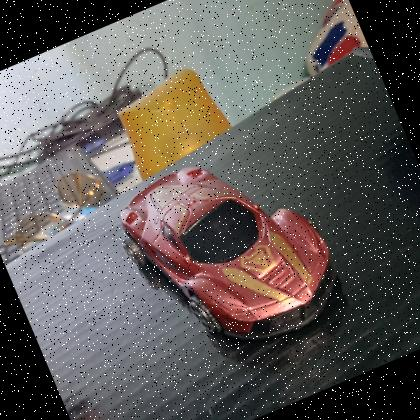Car: (101, 121, 362, 384)
